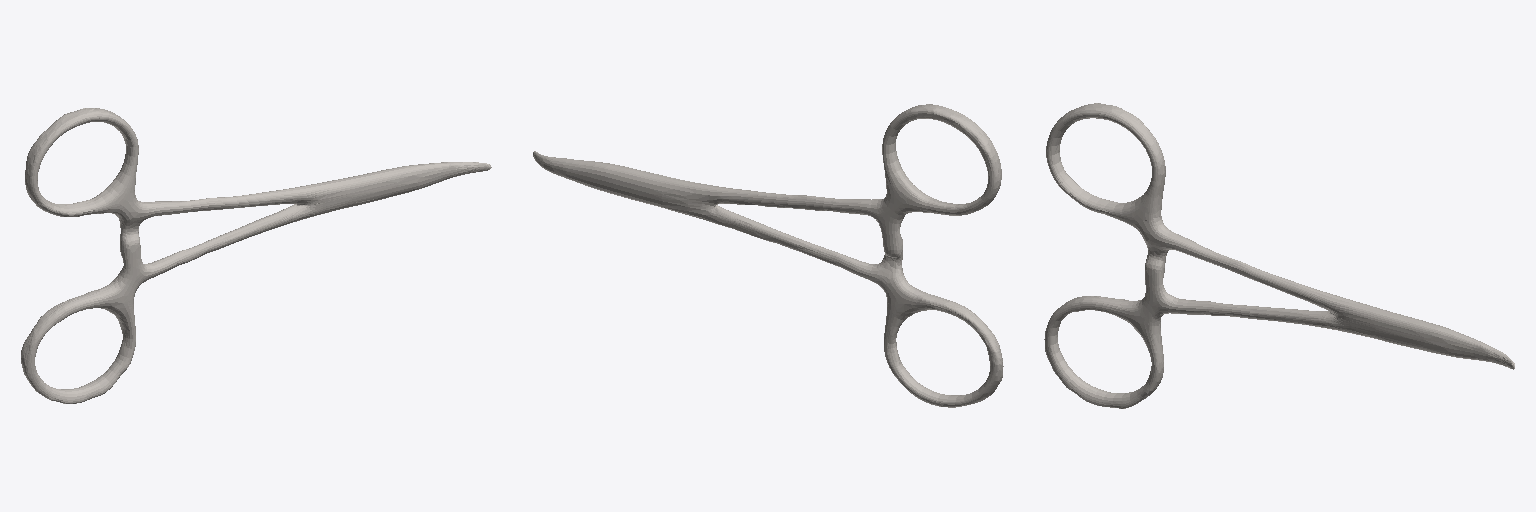
The robot description file, URDF, robot "Tooling_14":
<?xml version="1.0" encoding="utf-8"?>
<!-- This URDF was automatically created by SolidWorks to URDF Exporter! Originally created by Stephen Brawner (brawner@gmail.com)
     Commit Version: 1.6.0-4-g7f85cfe  Build Version: 1.6.7995.38578
     For more information, please see http://wiki.ros.org/sw_urdf_exporter -->
<robot
  name="Tooling_14">
  <link
    name="base_link">
    <inertial>
      <origin
        xyz="3.4347E-05 0.00045156 3.322E-05"
        rpy="0 0 0" />
      <mass
        value="0.030423" />
      <inertia
        ixx="7.9932E-06"
        ixy="5.6895E-07"
        ixz="9.8528E-08"
        iyy="3.4821E-05"
        iyz="-3.2681E-08"
        izz="4.2744E-05" />
    </inertial>
    <visual>
      <origin
        xyz="0 0 0"
        rpy="0 0 0" />
      <geometry>
        <mesh
          filename="../meshes/base_link.STL" />
      </geometry>
      <material
        name="">
        <color
          rgba="0.77647 0.75686 0.73725 1" />
      </material>
    </visual>
    <collision>
      <origin
        xyz="0 0 0"
        rpy="0 0 0" />
      <geometry>
        <mesh
          filename="../meshes/base_link.STL" />
      </geometry>
    </collision>
  </link>
</robot>

--- Render facts (derived) ---
Views: 3 orthographic renders of the robot side by side, from view 1: azimuth 30°, elevation 25°; view 2: azimuth 150°, elevation 25°; view 3: azimuth 330°, elevation 25°.
Model Tooling_14 with 1 links and 0 joints (none), rooted at base_link, posed all joints at 0.
Links seen in each view (by area): view 1: base_link; view 2: base_link; view 3: base_link.
Link boxes in pixels (x1=…): base_link: x1=21, y1=108, x2=491, y2=403; base_link: x1=533, y1=104, x2=1003, y2=407; base_link: x1=1044, y1=103, x2=1514, y2=408.
Size in the robot's own frame: 0.1245 by 0.0066 by 0.0744 metres.
Meshes: 1 distinct files referenced, 1 mesh visuals loaded (1 binary STL).
